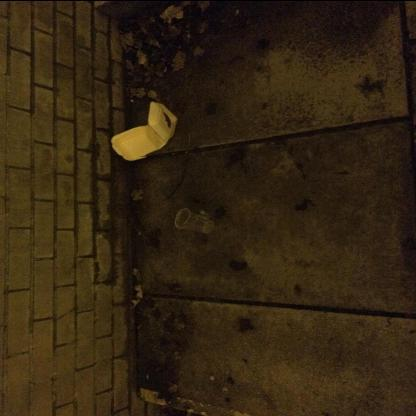kopuk: (111, 101, 179, 162)
plastik: (176, 208, 216, 234)
